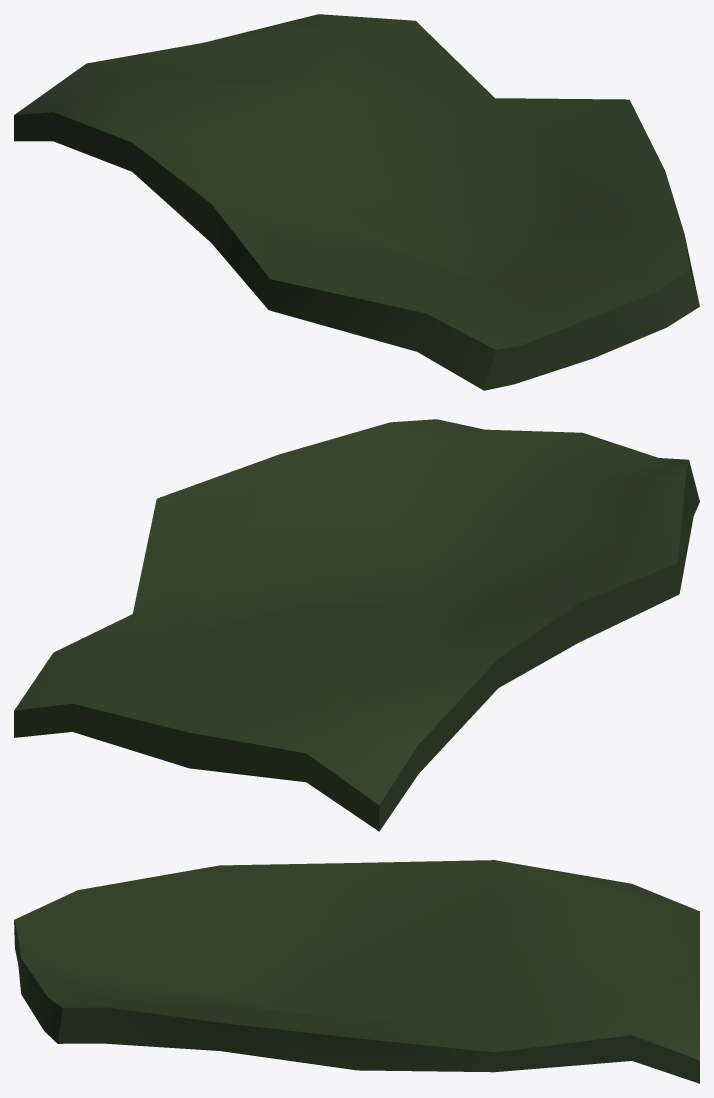
The model's file is BrokenPlatform.fbx.
3 renders of one model, top to bottom at view 1: azimuth 30°, elevation 25°; view 2: azimuth 150°, elevation 25°; view 3: azimuth 270°, elevation 25°, orthographic. The views are drawn at different scales.
Parts seen in each view (by area): view 1: pCube1; view 2: pCube1; view 3: pCube1.
Boxes of the visible parts, x1=… form: pCube1: x1=14, y1=14, x2=699, y2=390; pCube1: x1=14, y1=419, x2=699, y2=831; pCube1: x1=14, y1=860, x2=699, y2=1083.
Bounding box in the file's own units: 41.84 × 12.56 × 65.03.
